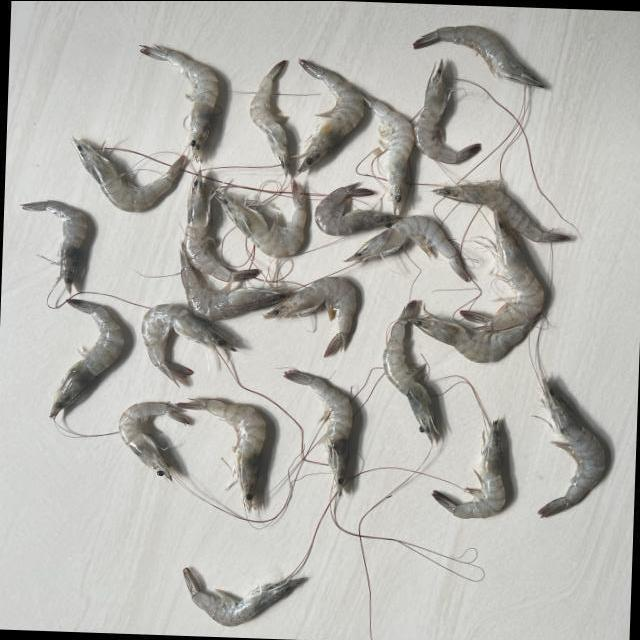shrimp: (175, 398, 266, 512), (459, 208, 544, 330), (539, 377, 606, 518), (140, 44, 218, 160), (49, 298, 123, 419), (284, 369, 353, 495), (179, 244, 292, 320), (71, 136, 185, 211), (346, 214, 471, 281), (183, 171, 258, 281), (433, 182, 571, 241), (414, 24, 545, 86), (296, 58, 364, 172), (141, 304, 235, 386), (264, 276, 356, 357), (182, 568, 306, 627), (214, 179, 307, 257), (432, 420, 506, 518), (414, 58, 481, 163), (383, 319, 438, 442), (403, 312, 532, 363), (361, 92, 415, 211), (20, 200, 86, 292), (117, 402, 189, 481), (315, 182, 402, 235), (249, 59, 288, 175), (400, 300, 417, 318)
